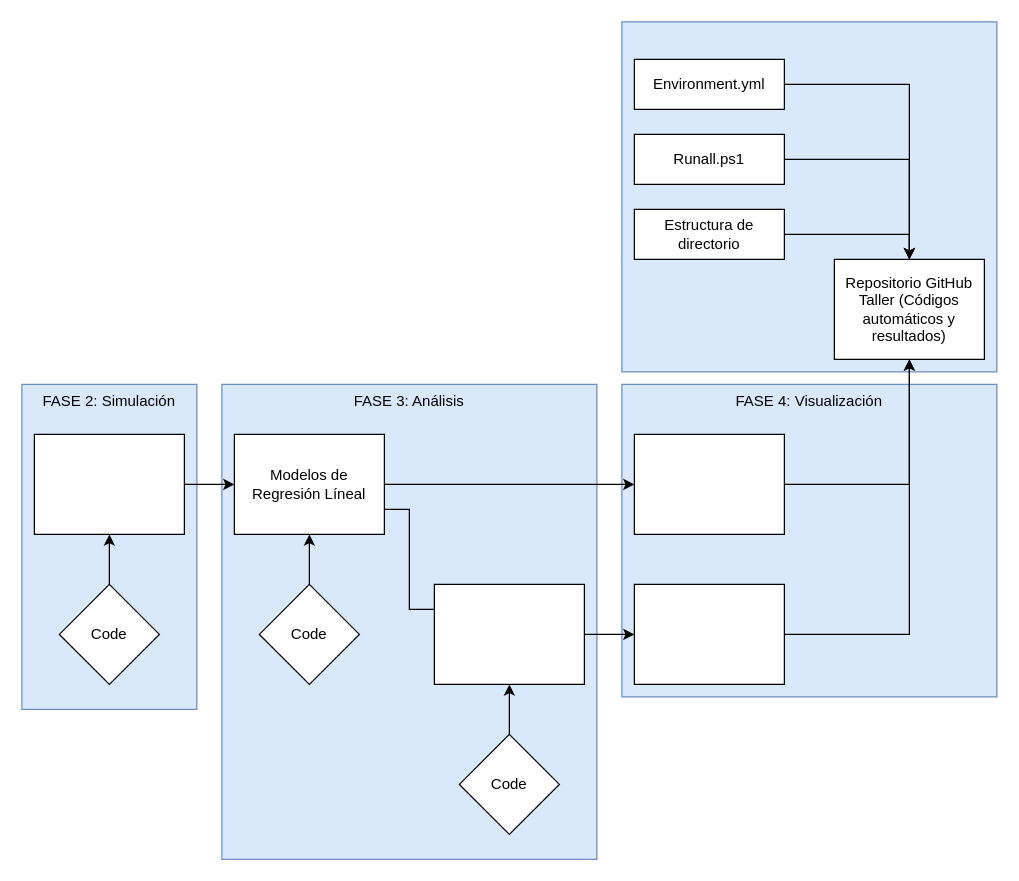
Image size: 1019x881. Some labels were removed from this diagram. The box of each missing label's shape, as (x1, y1, x2, y2) in pixels:
Creación Data Sintética: (33, 433, 184, 534)
Evaluación de Predicción MSE MAE: (433, 583, 584, 684)
FASE 1: Infraestructura: (621, 21, 997, 372)
Gráficas de Regresión Líneal: (633, 433, 784, 534)
Tablas de parámetros de evaluación de Predicción: (633, 583, 784, 684)
